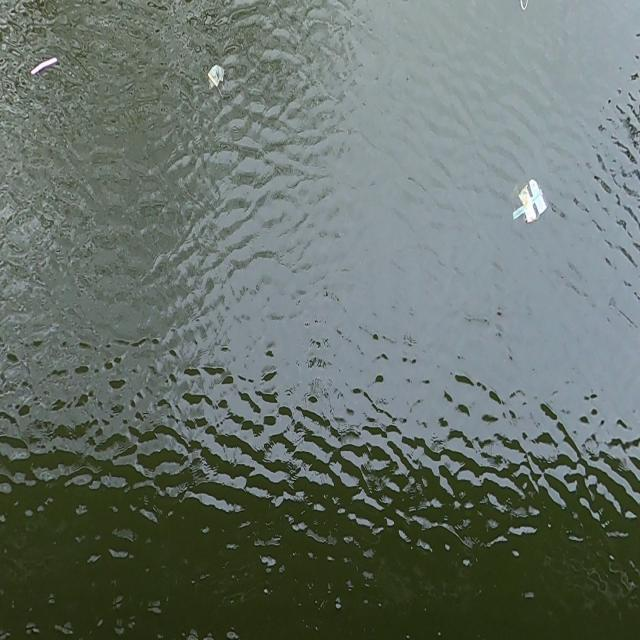Autre plastique: (512, 176, 548, 231)
Non plastique: (206, 65, 226, 99)
